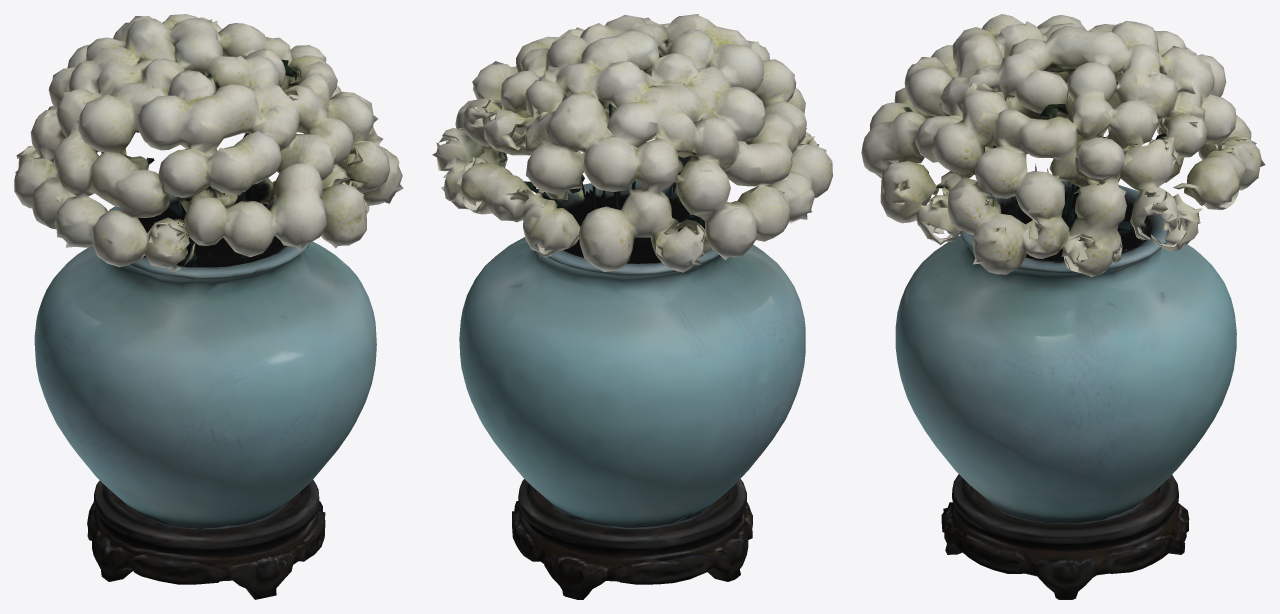
File: f_huanang.glb
3 renders of one model, left to right at view 1: azimuth 30°, elevation 25°; view 2: azimuth 150°, elevation 25°; view 3: azimuth 270°, elevation 25°, orthographic.
Visible parts, largest first — view 1: tripo_node_f817c34f-2699-46b1-92f8-8a868681f0e8; view 2: tripo_node_f817c34f-2699-46b1-92f8-8a868681f0e8; view 3: tripo_node_f817c34f-2699-46b1-92f8-8a868681f0e8.
Boxes of the visible parts, box(x1,y1,x2,y2) form: tripo_node_f817c34f-2699-46b1-92f8-8a868681f0e8: box(14, 14, 403, 599); tripo_node_f817c34f-2699-46b1-92f8-8a868681f0e8: box(432, 14, 832, 599); tripo_node_f817c34f-2699-46b1-92f8-8a868681f0e8: box(861, 14, 1265, 599).
Bounding box in the file's own units: 0.6579 × 0.9982 × 0.7043.
1 material, 1 textured.
